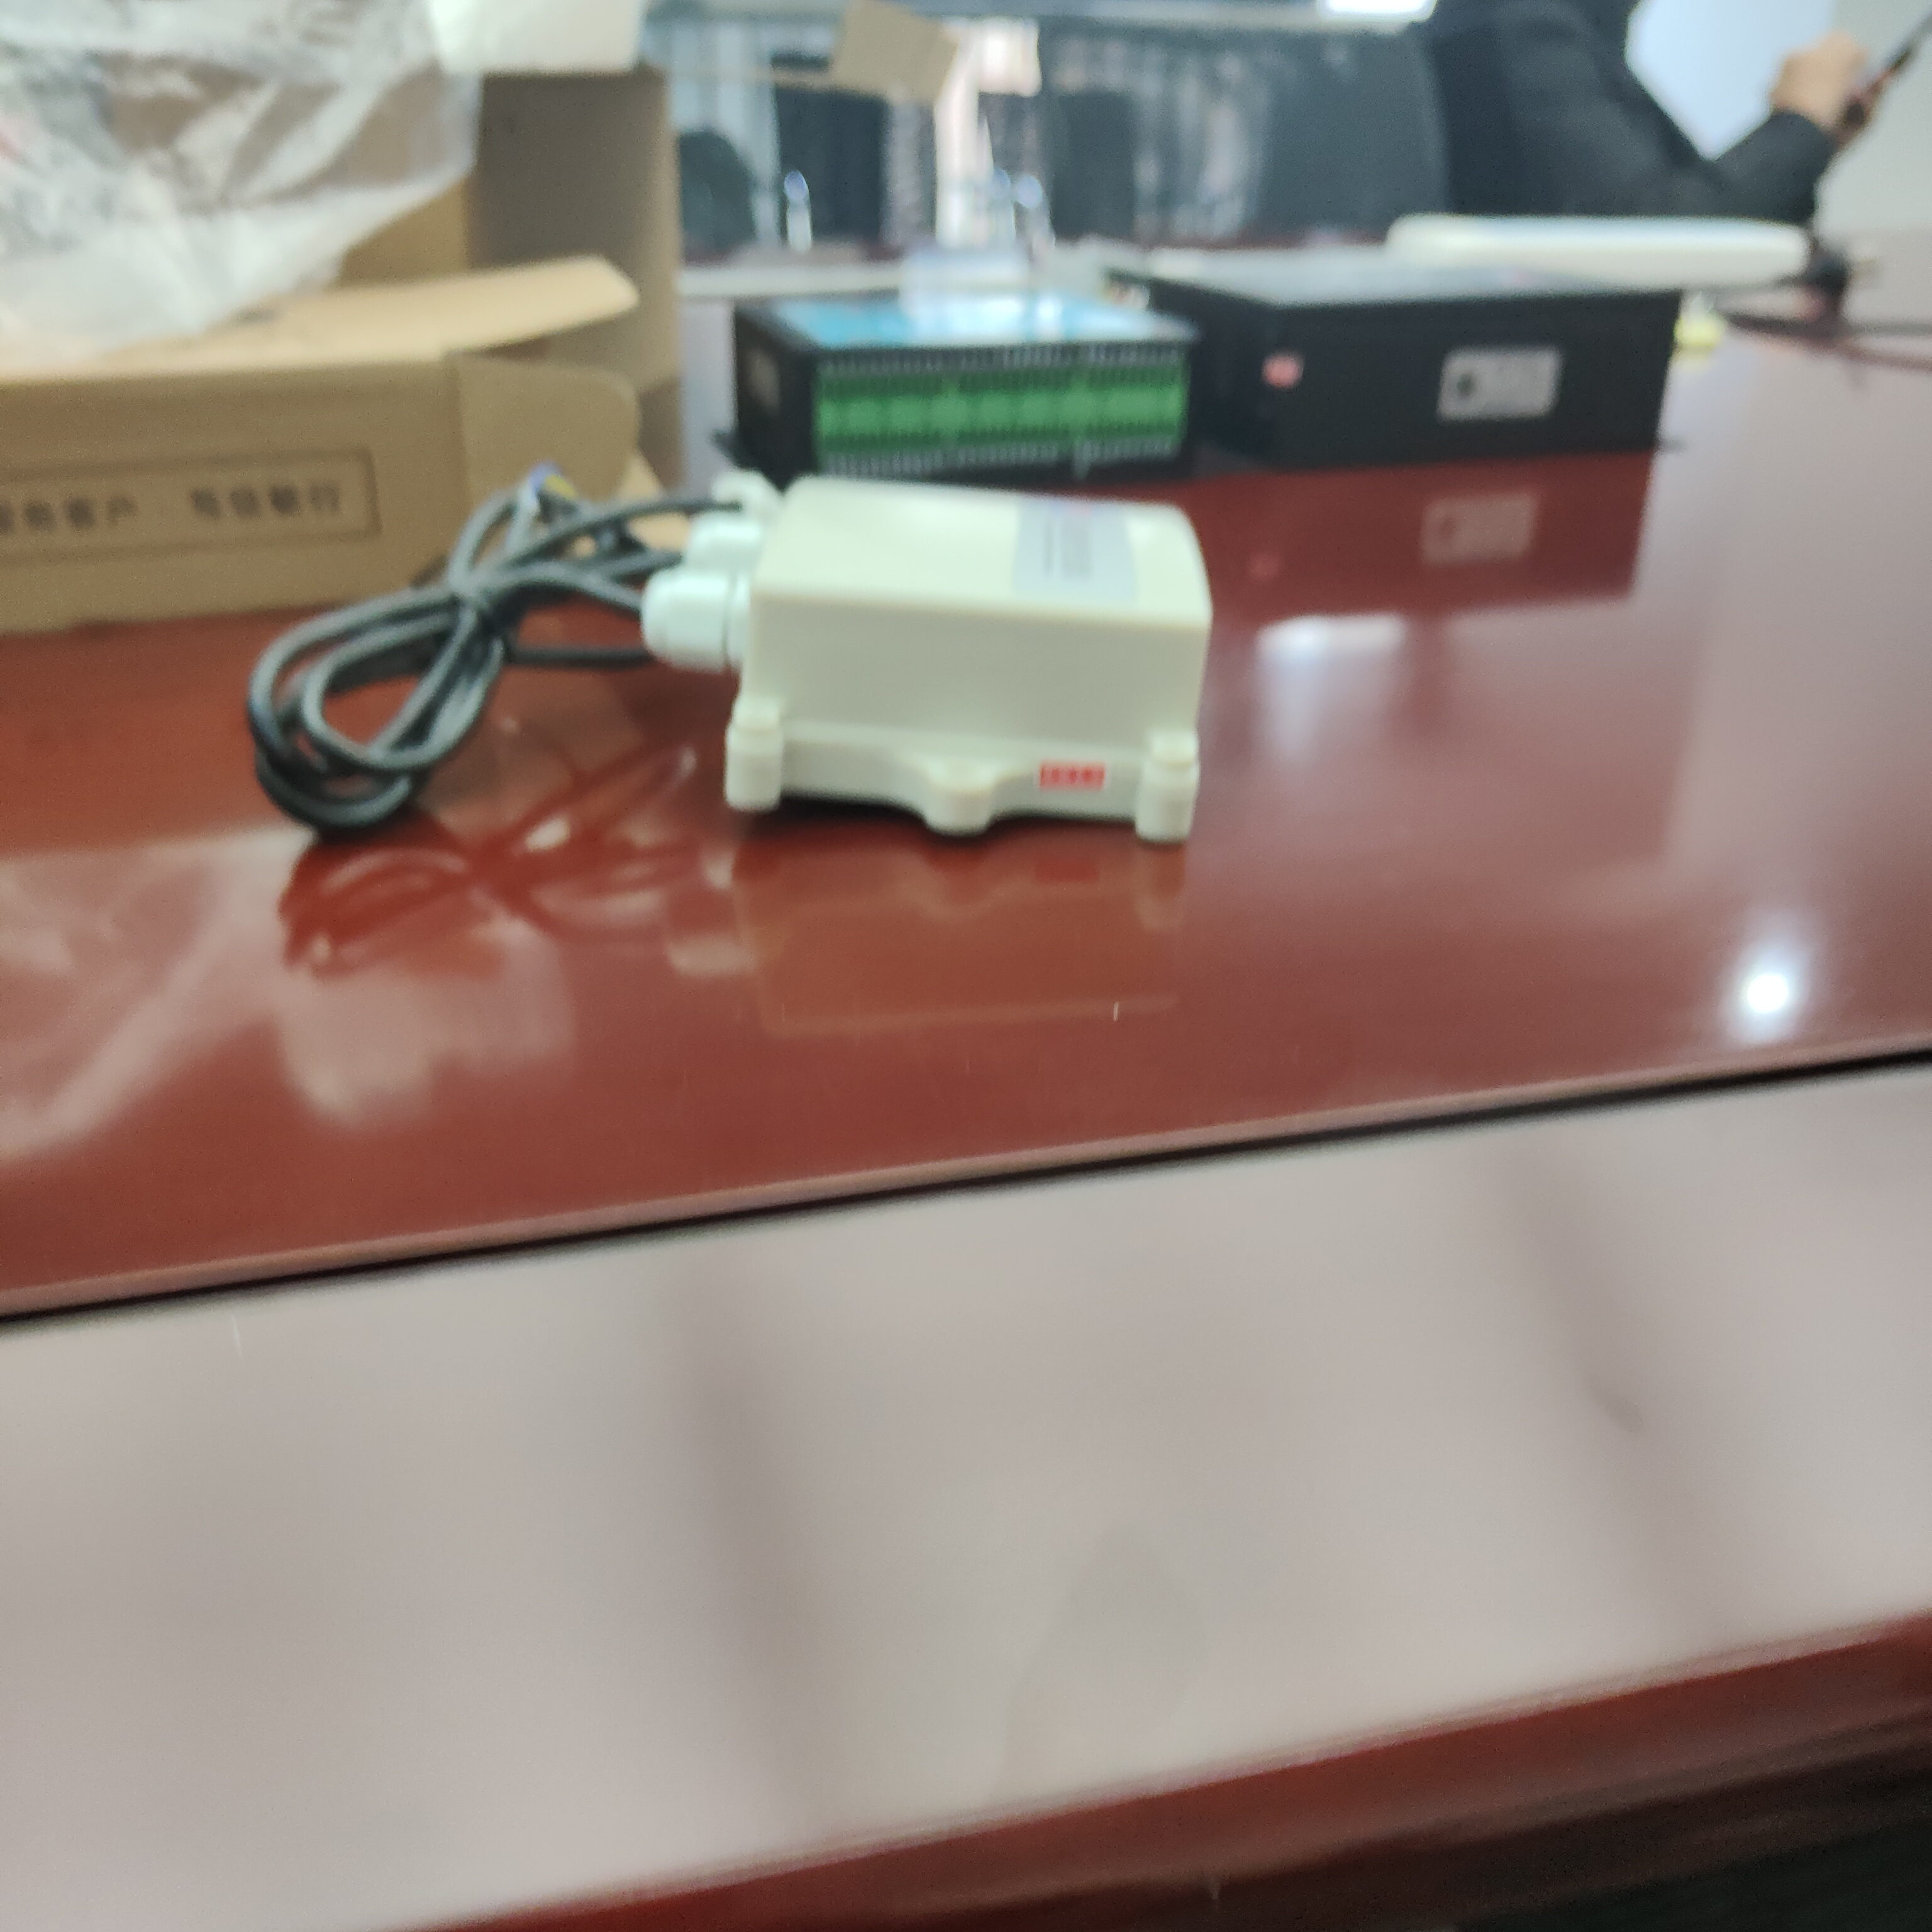qtbsq: (1136, 218, 1691, 504)
slyczd: (697, 262, 1210, 499)
wsdbsq: (702, 453, 1205, 870)
